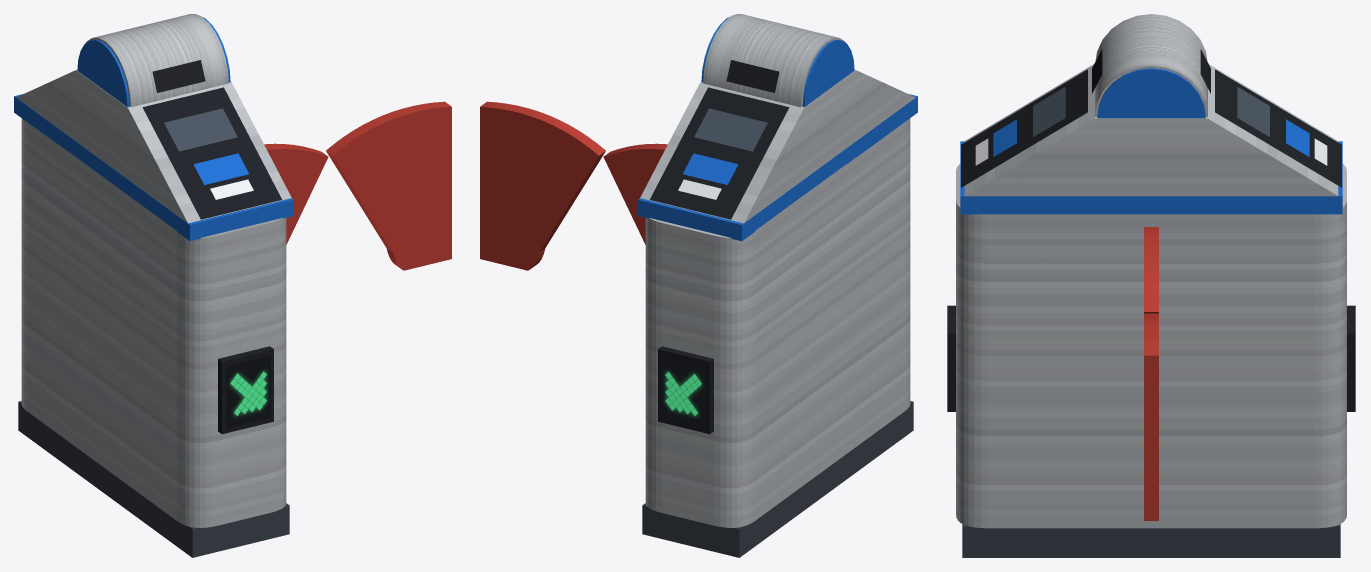
File: gate-new.glb
The picture shows the model from 3 angles, left to right: view 1: azimuth 30°, elevation 25°; view 2: azimuth 150°, elevation 25°; view 3: azimuth 270°, elevation 25°; orthographic projection. The views are drawn at different scales.
Parts seen in each view (by area): view 1: gate-body, GateNew, right-leaf, gate-belt, entry-arrow, left-leaf; view 2: gate-body, GateNew, right-leaf, gate-belt, entry-arrow, left-leaf; view 3: gate-body, GateNew, gate-belt, right-leaf, left-leaf.
Part boxes in pixels (x1,y1,x2,y2): gate-body: [21, 118, 286, 527]; GateNew: [16, 14, 291, 557]; right-leaf: [326, 101, 451, 270]; gate-belt: [14, 94, 293, 241]; entry-arrow: [226, 356, 270, 428]; left-leaf: [264, 143, 328, 244]; gate-body: [645, 118, 910, 527]; GateNew: [640, 14, 915, 557]; right-leaf: [480, 101, 605, 270]; gate-belt: [638, 94, 917, 241]; entry-arrow: [661, 356, 705, 428]; left-leaf: [603, 143, 667, 244]; gate-body: [956, 164, 1346, 528]; GateNew: [947, 14, 1355, 557]; gate-belt: [960, 141, 1342, 214]; right-leaf: [1144, 313, 1158, 520]; left-leaf: [1144, 227, 1158, 313].
Size of the model in its own units: 1 by 1.25 by 0.944.
Materials: 9 (3 with a texture image).
